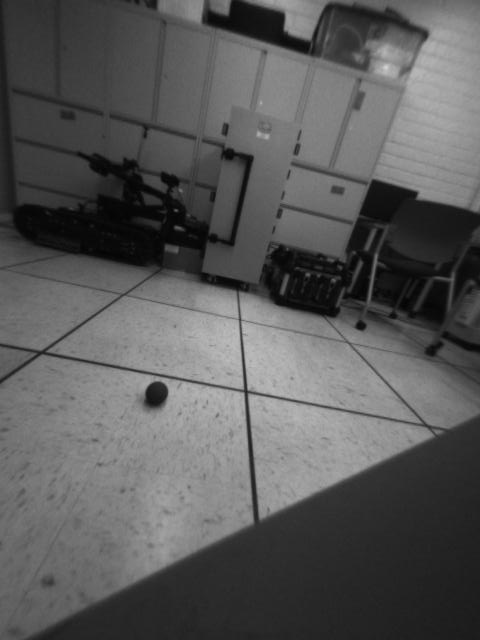dogtoy: (135, 374, 177, 411)
